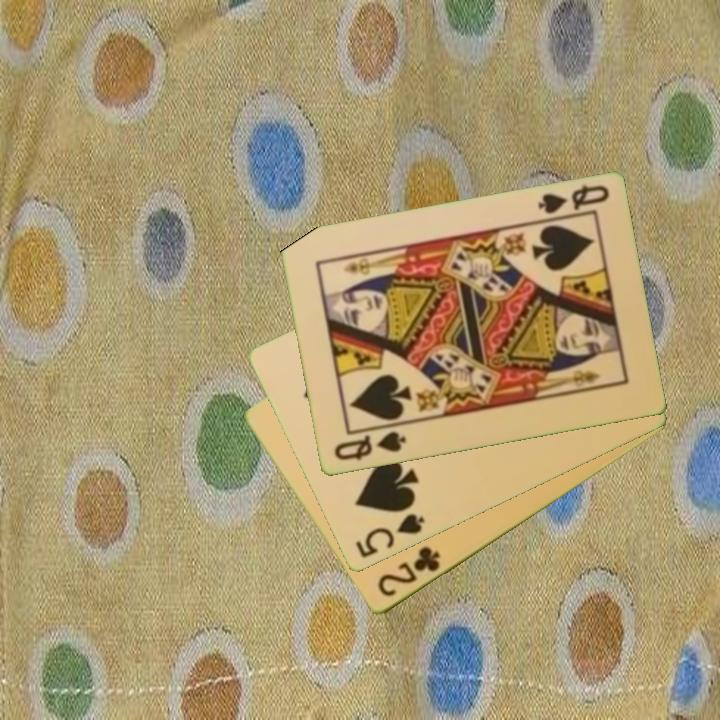2c: (374, 543, 444, 601)
5s: (352, 510, 428, 562)
Qs: (533, 181, 612, 224), (330, 428, 409, 464)
